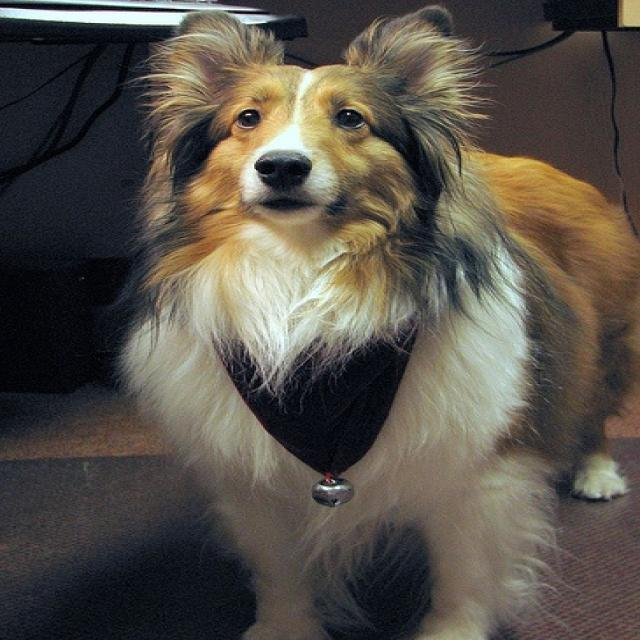dog: (116, 9, 638, 639)
